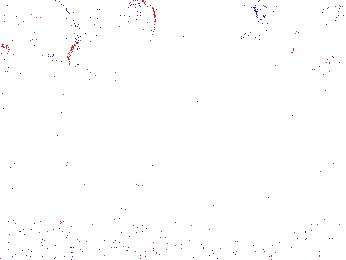moon jellyfish: (75, 1, 157, 74), (293, 5, 346, 74), (60, 36, 121, 92), (253, 1, 298, 70), (28, 1, 76, 63), (1, 33, 26, 94)
